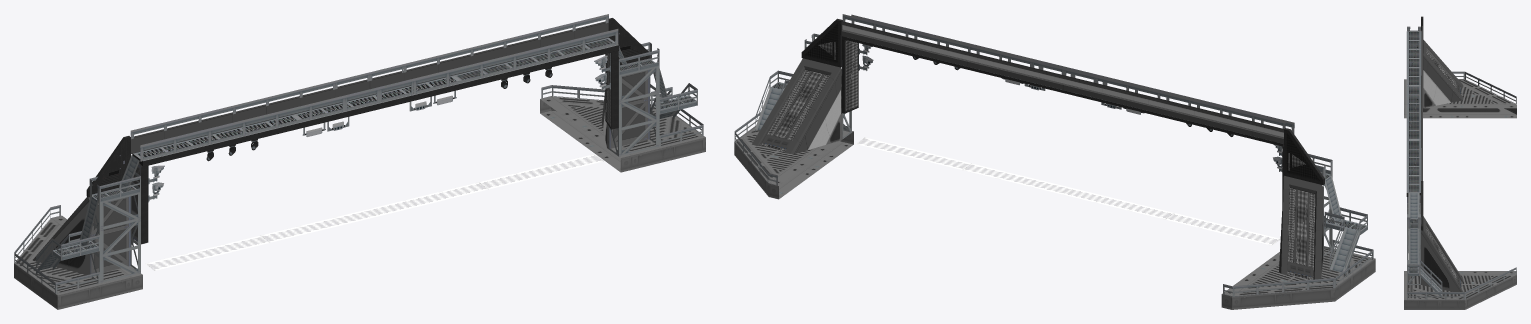
Rendered from checkpoint.fbx.
The picture shows the model from 3 angles, left to right: view 1: azimuth 30°, elevation 25°; view 2: azimuth 150°, elevation 25°; view 3: azimuth 270°, elevation 25°; orthographic projection. The views are drawn at different scales.
Parts seen in each view (by area): view 1: gate, bridge, line; view 2: gate, bridge, line; view 3: gate, bridge.
Part boxes in pixels (x1=…): gate: x1=14, y1=18, x2=705, y2=309; bridge: x1=119, y1=14, x2=629, y2=192; line: x1=145, y1=154, x2=603, y2=270; gate: x1=734, y1=18, x2=1375, y2=309; bridge: x1=841, y1=14, x2=1294, y2=146; line: x1=856, y1=137, x2=1280, y2=245; gate: x1=1404, y1=16, x2=1516, y2=309; bridge: x1=1406, y1=26, x2=1422, y2=218.
Bounding box in the file's own units: 5885 × 1299 × 1272.
